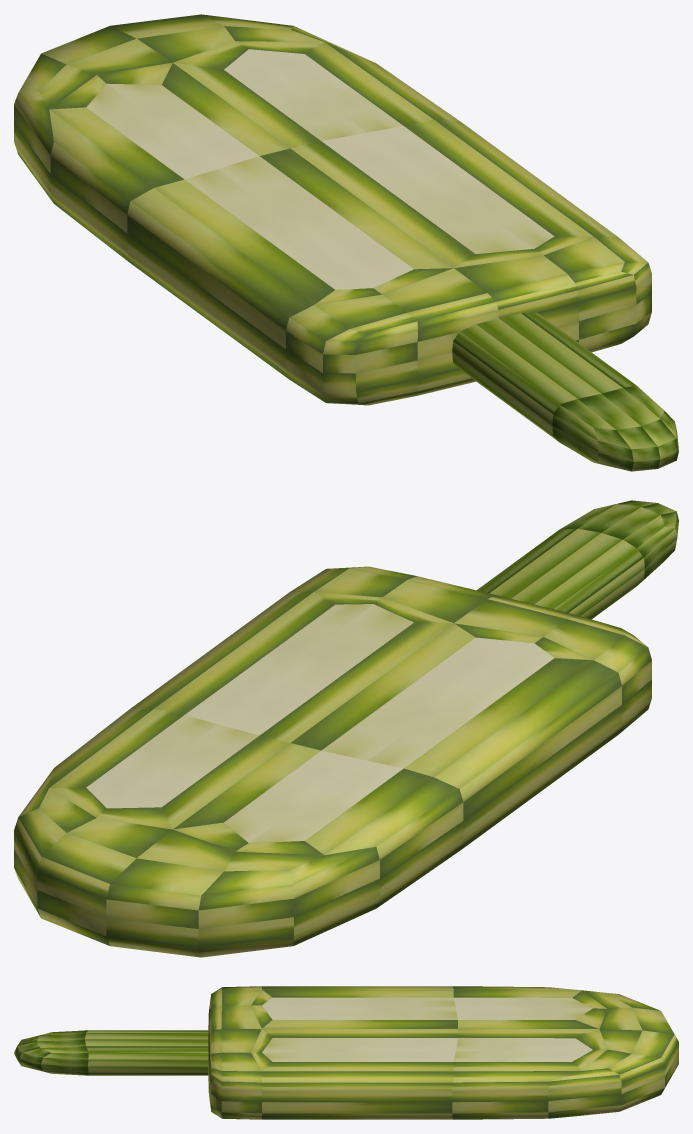
Rendered from OBS0110277.fbx.
The picture shows the model from 3 angles, top to bottom: view 1: azimuth 30°, elevation 25°; view 2: azimuth 150°, elevation 25°; view 3: azimuth 270°, elevation 25°; orthographic projection. The views are drawn at different scales.
Parts seen in each view (by area): view 1: smOBS0110277; view 2: smOBS0110277; view 3: smOBS0110277.
Boxes of the visible parts, left/top/right/bottom form: smOBS0110277: left=14, top=14, right=678, bottom=471; smOBS0110277: left=14, top=500, right=678, bottom=957; smOBS0110277: left=14, top=986, right=678, bottom=1119.
Bounding box in the file's own units: 105 × 23.96 × 299.
